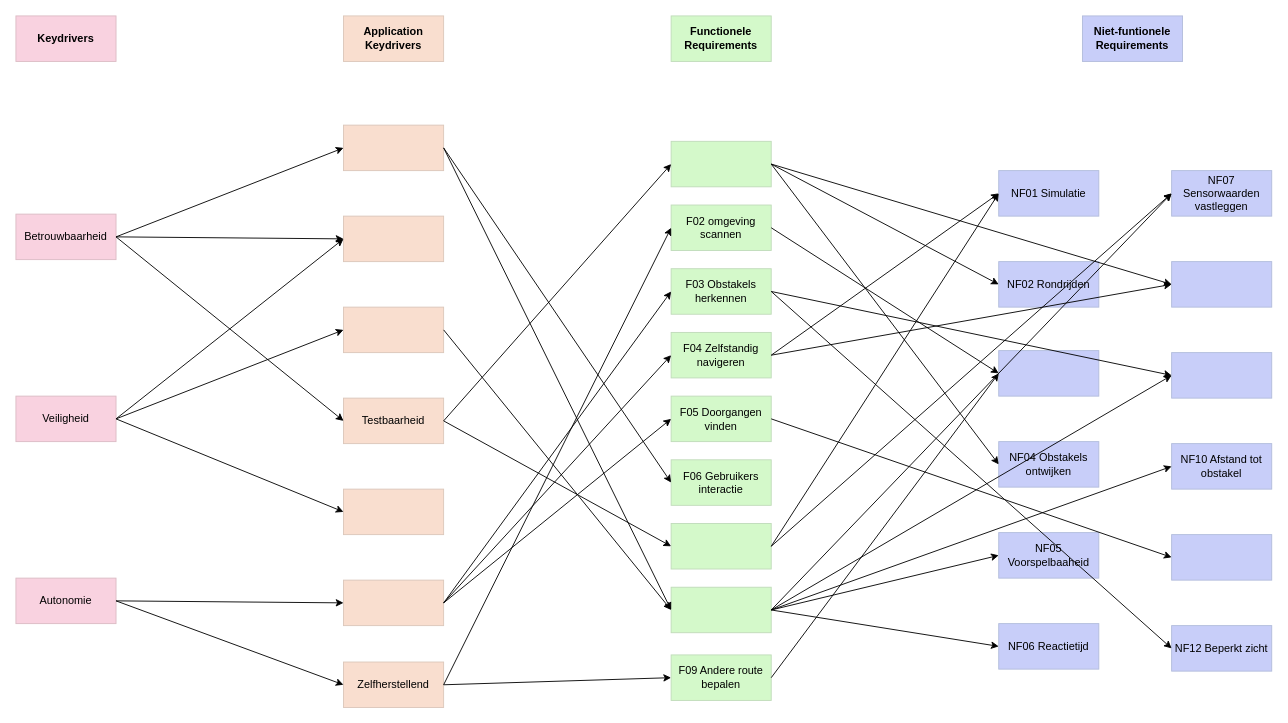
This 1288x723 diagram has some shape labels left out. The centre of each missing label's shape, as x and y in pixels:
Consistentie: point (393, 238)
F01 Rondrijden: point (720, 163)
F07 Virtuele omgeving: point (720, 546)
F08 Veilig werken: point (720, 609)
NF03 Navigatie sensor: point (1048, 373)
NF08 Route herberekenen: point (1221, 284)
NF09 Nauwkeurige sensoren: point (1221, 375)
NF11 Doorgangen: point (1221, 557)
Reactietijd: point (393, 329)
Robuustheid: point (393, 511)
Route optimalisering: point (393, 602)
Voorspelbaarheid: point (393, 147)
